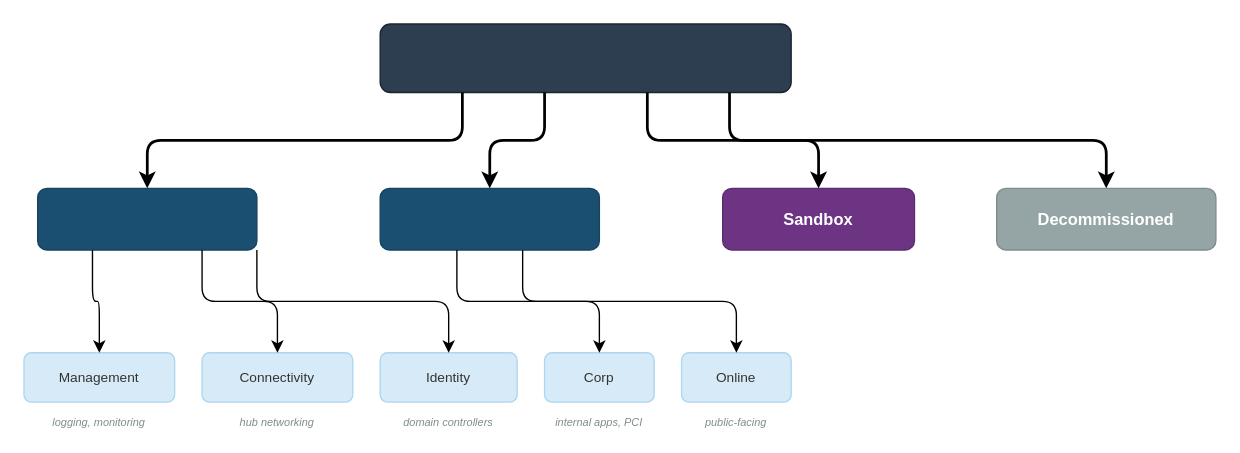
Some shapes in this 1240 by 453 pixel diagram are drawn without their labels. Each missing label, with the centre of its shape:
Landing Zones: the point at 489,218
Meridian Financial (Top-Level): the point at 585,57
Platform: the point at 146,218
